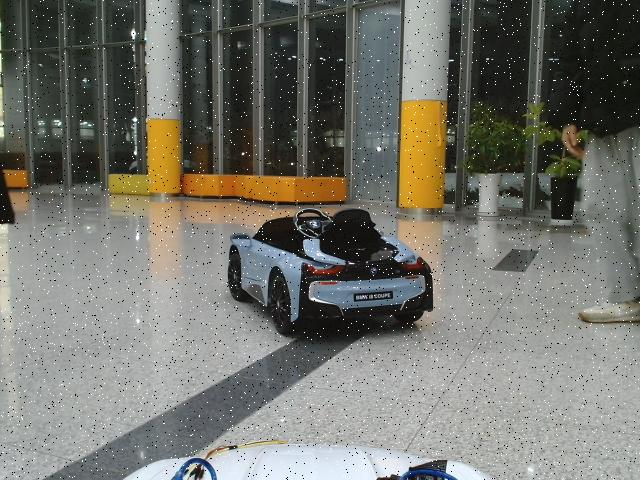car: (229, 208, 435, 338)
